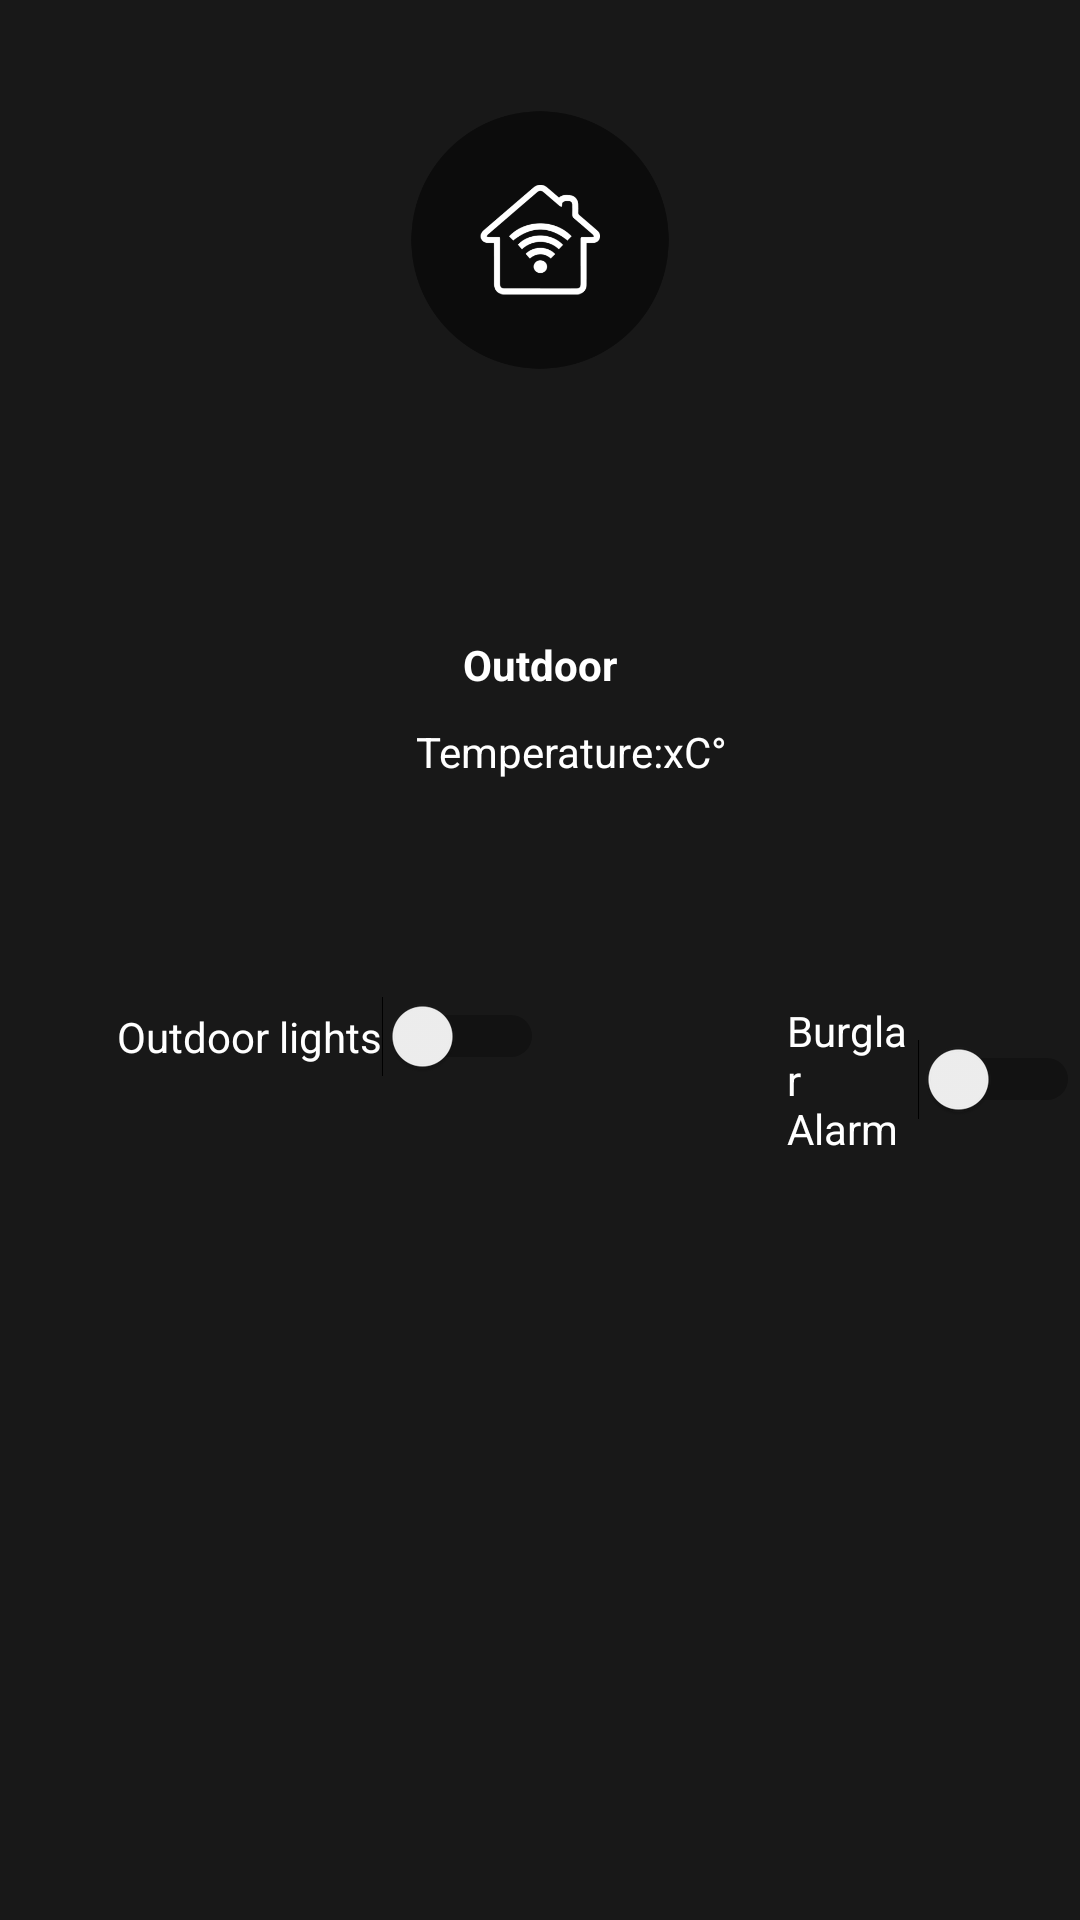

Where to tap for icons on this 1080×1920 app screen, as point (x, y):
smarthome hp: point (540, 240)
